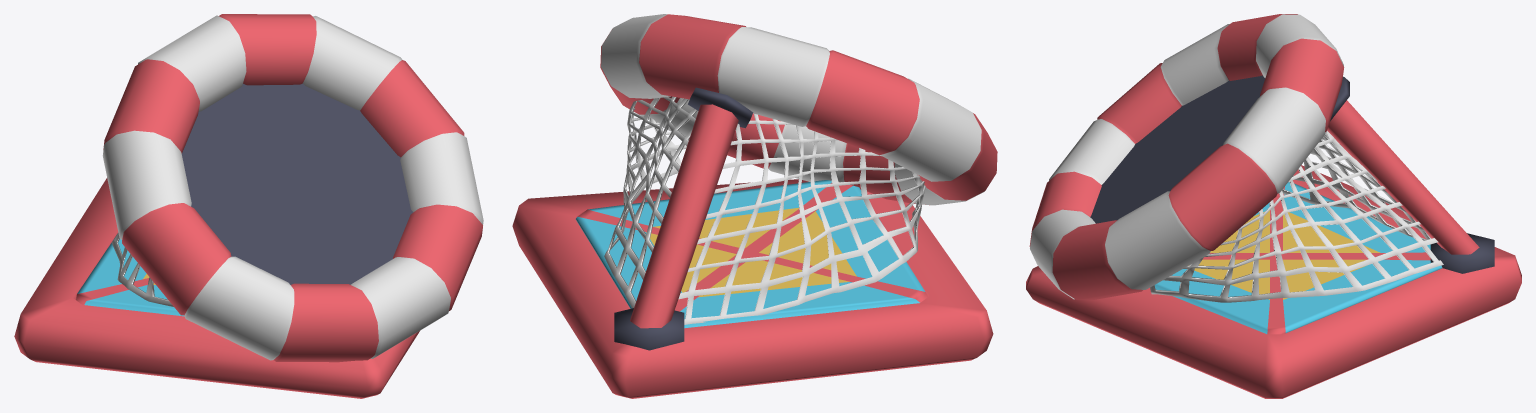
Rendered from saltadorAgua.fbx.
3 views of the same model, side by side, from view 1: azimuth 30°, elevation 25°; view 2: azimuth 150°, elevation 25°; view 3: azimuth 270°, elevation 25° (orthographic). The views are drawn at different scales.
Visible parts, largest first — view 1: pTorus1, pDisc1, pCube1, red2; view 2: pCube1, pTorus1, red2, pCylinder30, red1, pCylinder31, pCylinder32; view 3: pTorus1, pCube1, red1, pDisc1, pCylinder30, red2, pCylinder31.
Boxes of the visible parts, box(x1,y1,x2,y2) form: pTorus1: box(102, 14, 483, 362); pDisc1: box(181, 83, 413, 284); pCube1: box(14, 178, 419, 398); red2: box(112, 233, 173, 306); pCube1: box(512, 179, 993, 398); pTorus1: box(600, 14, 997, 205); red2: box(678, 113, 925, 324); pCylinder30: box(630, 104, 738, 328); red1: box(604, 96, 697, 308); pCylinder31: box(614, 308, 684, 350); pCylinder32: box(688, 87, 753, 128); pTorus1: box(1029, 14, 1344, 299); pCube1: box(1026, 165, 1521, 398); red1: box(1150, 131, 1443, 302); pDisc1: box(1090, 75, 1265, 223); pCylinder30: box(1327, 100, 1479, 254); red2: box(1282, 132, 1430, 240); pCylinder31: box(1430, 233, 1494, 273).
Size of the model in its own units: 552 by 322 by 552.
